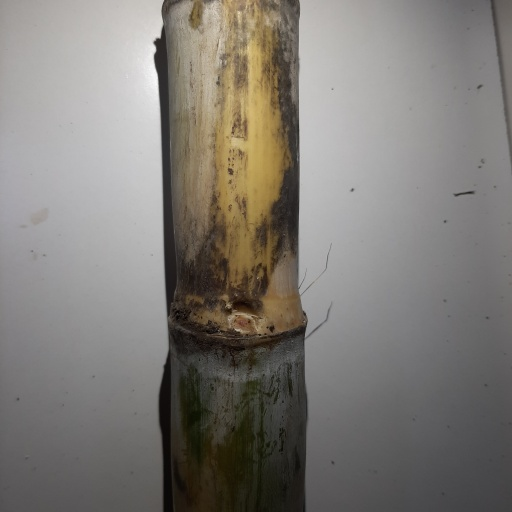Damage_Bud: (227, 303, 257, 335)
